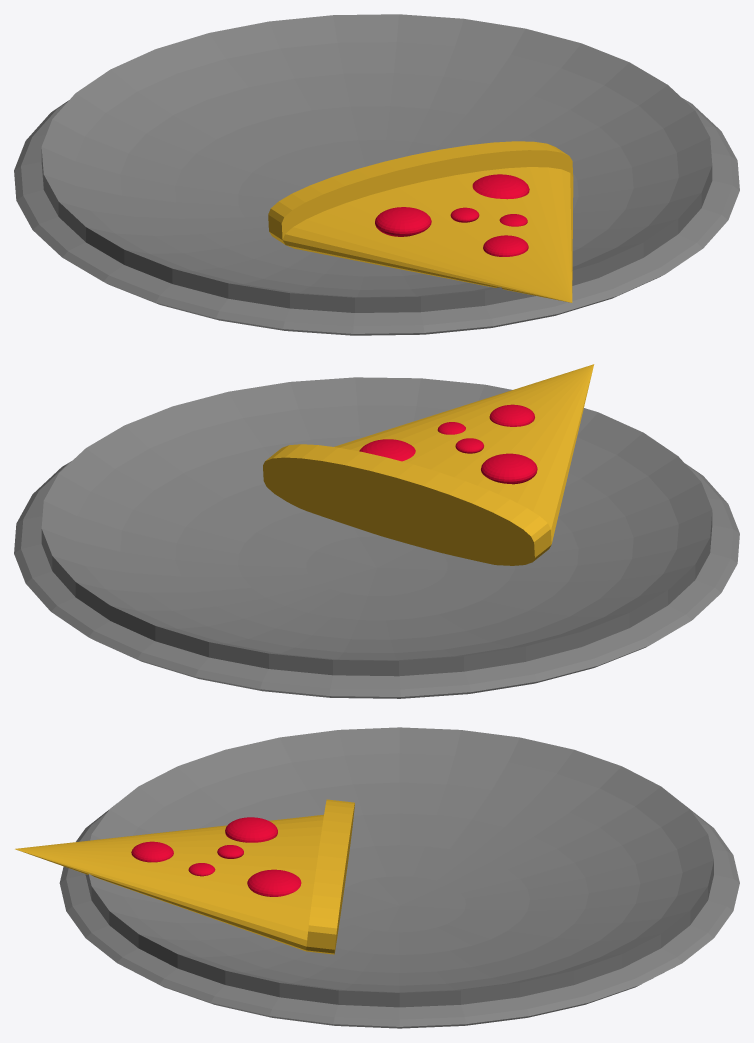
The model's file is pizza.fbx.
The picture shows the model from 3 angles, top to bottom: view 1: azimuth 30°, elevation 25°; view 2: azimuth 150°, elevation 25°; view 3: azimuth 270°, elevation 25°; orthographic projection. The views are drawn at different scales.
Parts seen in each view (by area): view 1: plate; view 2: plate; view 3: plate.
Part boxes in pixels (box(x1,y1,x2,y2)): plate: box(14, 14, 739, 335); plate: box(14, 364, 739, 698); plate: box(15, 727, 739, 1028).
Bounding box in the file's own units: 0.7666 × 0.0934 × 0.818.
